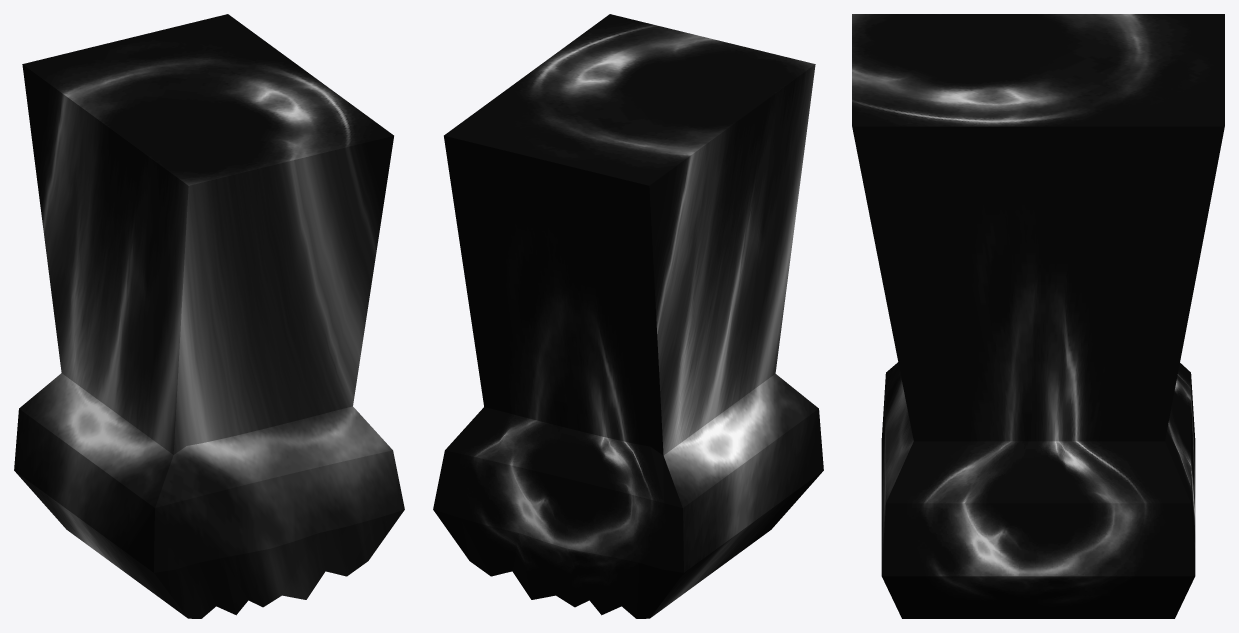
The picture shows the model from 3 angles, left to right: view 1: azimuth 30°, elevation 25°; view 2: azimuth 150°, elevation 25°; view 3: azimuth 270°, elevation 25°; orthographic projection. The views are drawn at different scales.
Bounding box in the file's own units: 1.24 × 2.2 × 1.43.
Materials: 1 (1 with a texture image).
